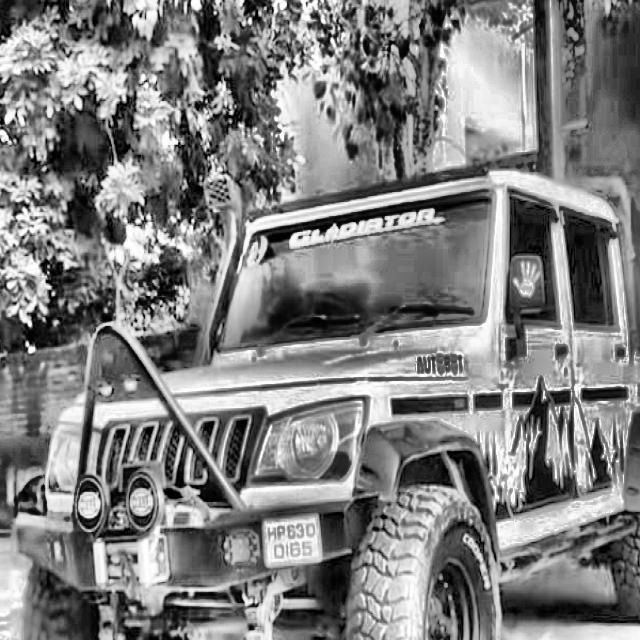light_vehicle: (18, 176, 640, 640)
